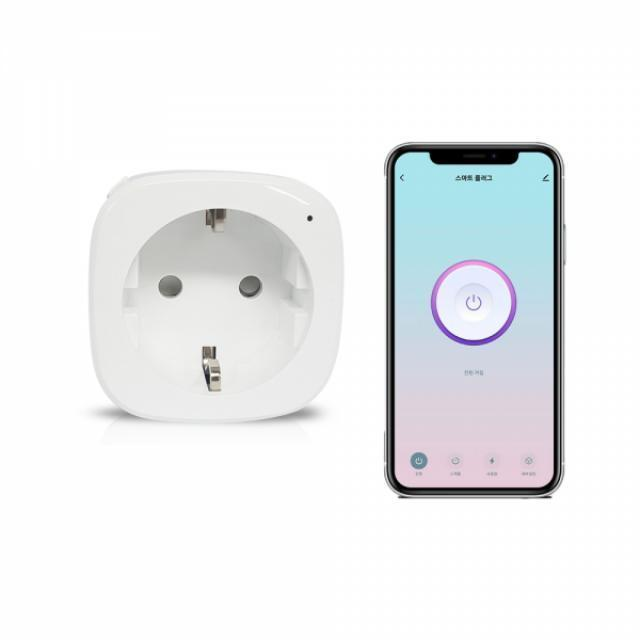typeb: (83, 145, 373, 483)
